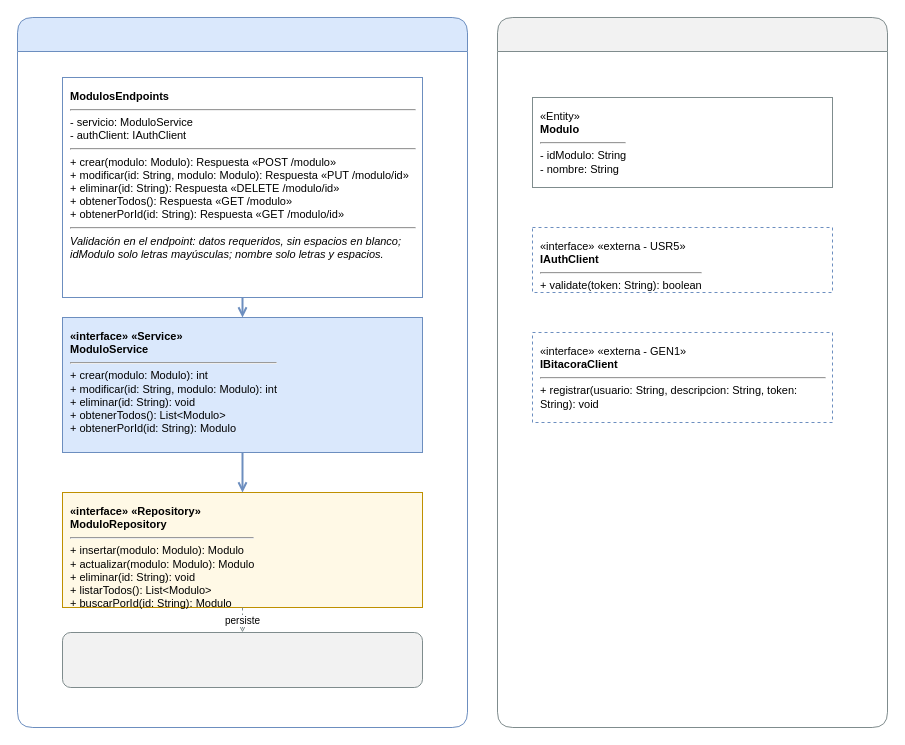
The diagram is 905 pixels wide and 745 high, and some of its shapes have lost their labels. The box of each missing label's shape, as (x1, y1, x2, y2) in pixels:
CLASES DEL DOMINIO Y DEPENDENCIAS: (496, 16, 888, 728)
Entidad: Modulo idModulo: String (PK) · nombre: (62, 632, 422, 688)
USR4 — MÓDULOS: (16, 16, 468, 728)
